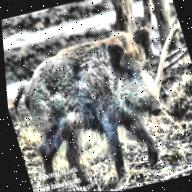boar: (1, 6, 192, 180)
